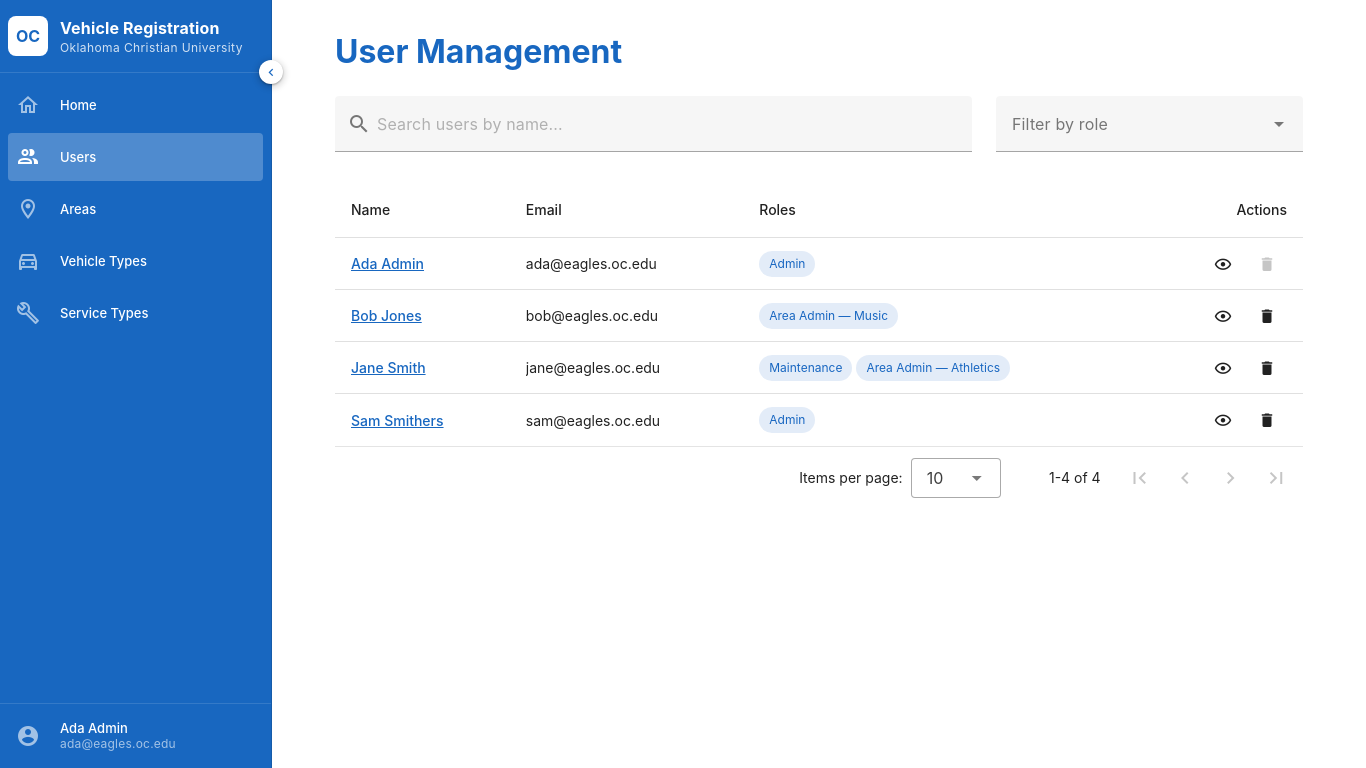
Scenario: Feature 3 — User Role Management UI › US-3.2 — Search and filter users › Search returns no results
Type "zzz" into the field with placeholder "Search users by name..." at (666, 124), box x1=371 y1=96 x2=960 y2=152
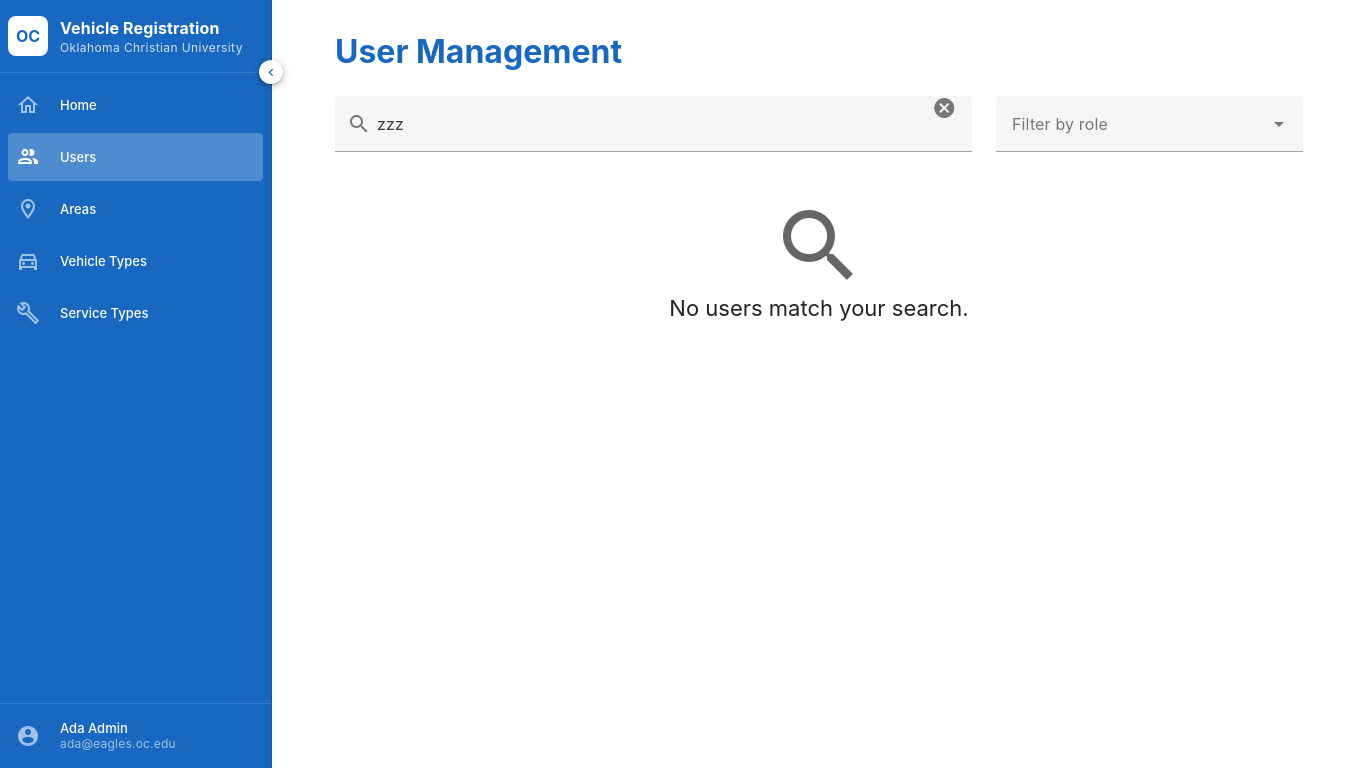
Now the text "No users match your search." is shown, box x1=669 y1=294 x2=969 y2=322
